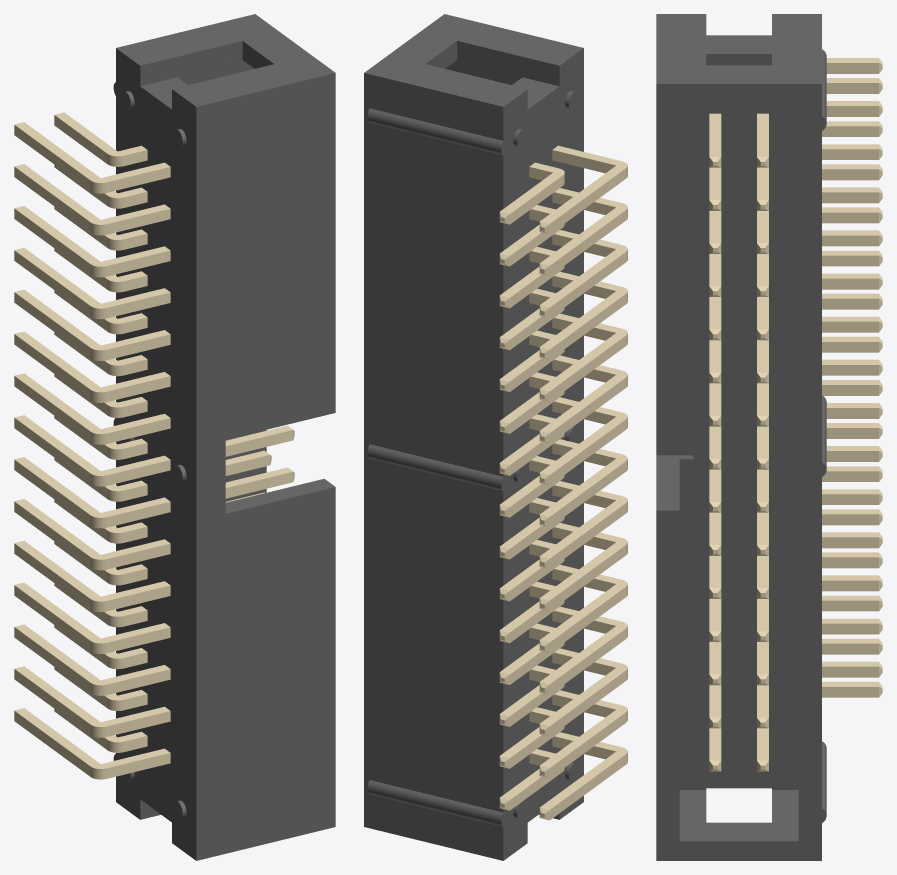
The model's file is IDC-Header_2x15_P2.54mm_Horizontal.glb.
The picture shows the model from 3 angles, left to right: view 1: azimuth 30°, elevation 25°; view 2: azimuth 150°, elevation 25°; view 3: azimuth 270°, elevation 25°; orthographic projection. The views are drawn at different scales.
Visible parts, largest first — view 1: Shape_IndexedFaceSet, Shape_IndexedFaceSet.007, Shape_IndexedFaceSet.001, Shape_IndexedFaceSet.011, Shape_IndexedFaceSet.161, Shape_IndexedFaceSet.144, Shape_IndexedFaceSet.014, Shape_IndexedFaceSet.162, Shape_IndexedFaceSet.145, Shape_IndexedFaceSet.127, Shape_IndexedFaceSet.246, Shape_IndexedFaceSet.093 (+42 smaller); view 2: Shape_IndexedFaceSet.008, Shape_IndexedFaceSet.007, Shape_IndexedFaceSet.001, Shape_IndexedFaceSet.009, Shape_IndexedFaceSet.023, Shape_IndexedFaceSet.025, Shape_IndexedFaceSet.024, Shape_IndexedFaceSet.263, Shape_IndexedFaceSet.229, Shape_IndexedFaceSet.093, Shape_IndexedFaceSet.110, Shape_IndexedFaceSet.144 (+30 smaller); view 3: Shape_IndexedFaceSet.017, Shape_IndexedFaceSet.002, Shape_IndexedFaceSet.001, Shape_IndexedFaceSet.013, Shape_IndexedFaceSet.004, Shape_IndexedFaceSet.005, Shape_IndexedFaceSet.026, Shape_IndexedFaceSet.263, Shape_IndexedFaceSet.518, Shape_IndexedFaceSet.042, Shape_IndexedFaceSet.059, Shape_IndexedFaceSet.178 (+55 smaller).
Boxes of the visible parts, x1,y1,x2,y2 form: Shape_IndexedFaceSet: (196,73,335,860); Shape_IndexedFaceSet.007: (113,48,196,860); Shape_IndexedFaceSet.001: (116,14,335,106); Shape_IndexedFaceSet.011: (140,41,242,86); Shape_IndexedFaceSet.161: (14,415,292,475); Shape_IndexedFaceSet.144: (14,457,292,517); Shape_IndexedFaceSet.014: (177,60,266,501); Shape_IndexedFaceSet.162: (106,430,293,485); Shape_IndexedFaceSet.145: (106,472,293,527); Shape_IndexedFaceSet.127: (14,499,170,559); Shape_IndexedFaceSet.246: (14,206,170,266); Shape_IndexedFaceSet.093: (14,582,169,643); Shape_IndexedFaceSet.008: (364,73,503,860); Shape_IndexedFaceSet.007: (501,48,583,860); Shape_IndexedFaceSet.001: (364,14,583,106); Shape_IndexedFaceSet.009: (457,41,559,86); Shape_IndexedFaceSet.023: (367,780,502,826); Shape_IndexedFaceSet.025: (367,108,503,154); Shape_IndexedFaceSet.024: (367,444,503,490); Shape_IndexedFaceSet.263: (540,145,627,223); Shape_IndexedFaceSet.229: (540,271,627,349); Shape_IndexedFaceSet.093: (540,606,627,684); Shape_IndexedFaceSet.110: (540,564,627,642); Shape_IndexedFaceSet.144: (540,481,627,558); Shape_IndexedFaceSet.017: (679,54,798,789); Shape_IndexedFaceSet.002: (656,84,821,860); Shape_IndexedFaceSet.001: (656,14,821,83); Shape_IndexedFaceSet.013: (679,790,798,841); Shape_IndexedFaceSet.004: (656,383,693,455); Shape_IndexedFaceSet.005: (656,455,693,510); Shape_IndexedFaceSet.026: (706,35,771,53); Shape_IndexedFaceSet.263: (709,58,878,156); Shape_IndexedFaceSet.518: (757,78,878,156); Shape_IndexedFaceSet.042: (709,661,878,760); Shape_IndexedFaceSet.059: (709,618,878,717); Shape_IndexedFaceSet.178: (709,316,878,415).
Bounding box in the file's own units: 5.34 × 18.02 × 4.76.
